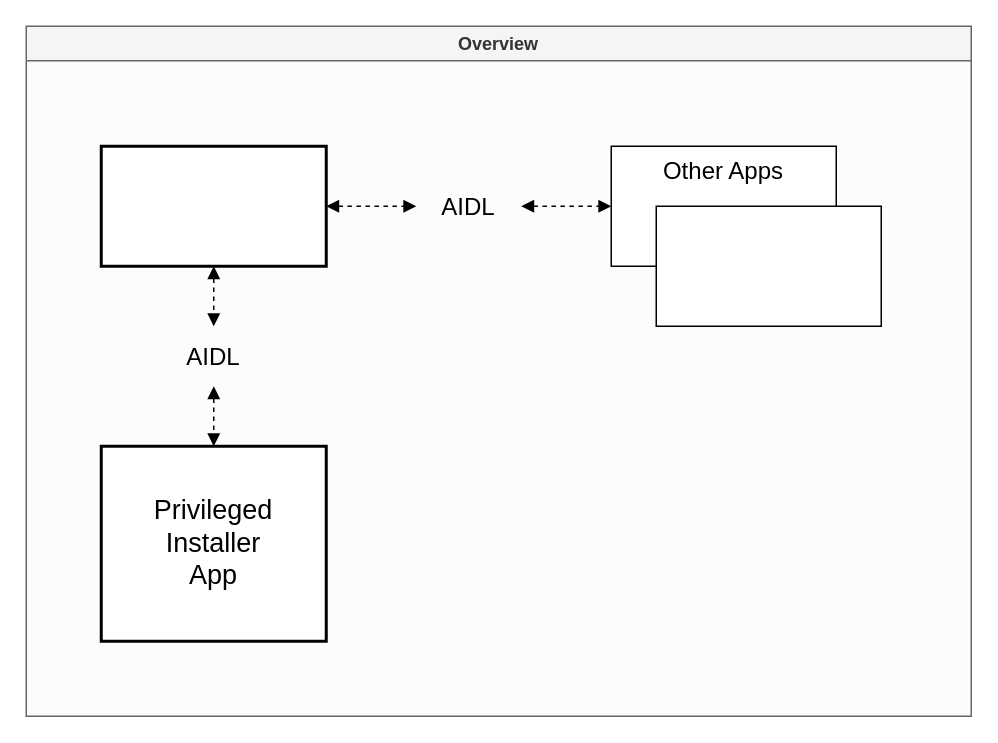
The diagram is 998 pixels wide and 743 high, and some of its shapes have lost their labels. The shapes that lost their labels are listed below. From the top down, each one's centre as x and y in pixels, then its label:
At pixel 213 205: "Updater App".
At pixel 768 265: "Sparkpoint OOBE App".
